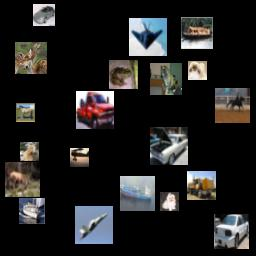airplane: (129, 18, 167, 56), (75, 206, 113, 244), (70, 148, 89, 167)
automobile: (150, 127, 188, 165), (214, 214, 249, 249), (33, 4, 55, 26)
cat: (150, 63, 182, 95)
deer: (5, 162, 40, 197), (15, 42, 47, 74)
dog: (188, 61, 207, 80), (160, 192, 179, 211)
frog: (109, 60, 138, 89)
ship: (120, 176, 155, 211), (181, 17, 213, 49), (19, 198, 45, 224)
truck: (76, 91, 114, 129), (187, 171, 216, 200)
